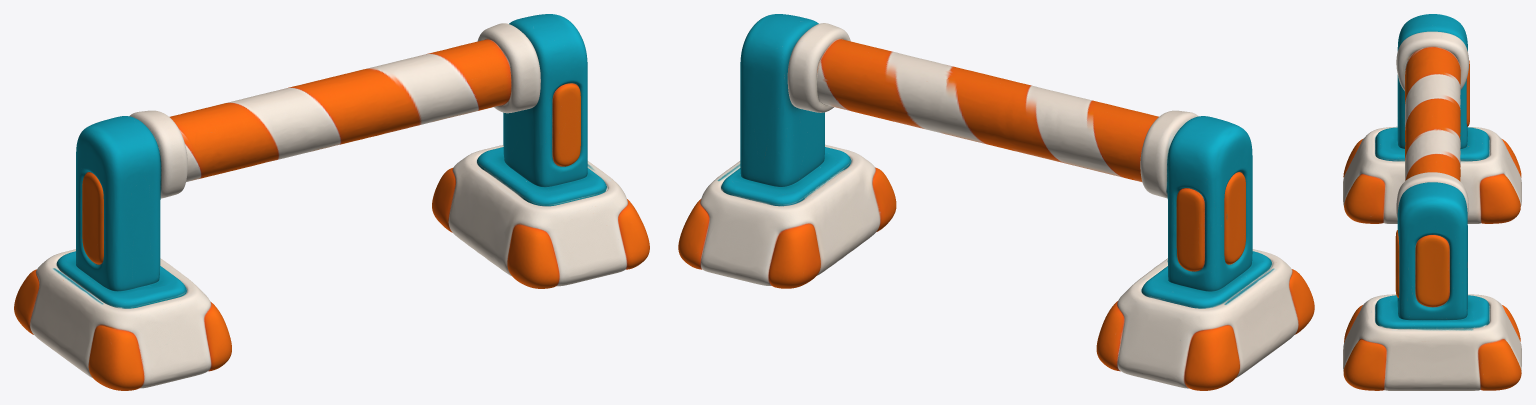
File: Meshy_AI_roofline_low_hurdle_3_1024085322_image-to-3d-texture.glb
3 renders of one model, left to right at view 1: azimuth 30°, elevation 25°; view 2: azimuth 150°, elevation 25°; view 3: azimuth 270°, elevation 25°, orthographic. The views are drawn at different scales.
Bounding box in the file's own units: 1.9 × 0.7321 × 0.6585.
Materials: 1 (1 with a texture image).
